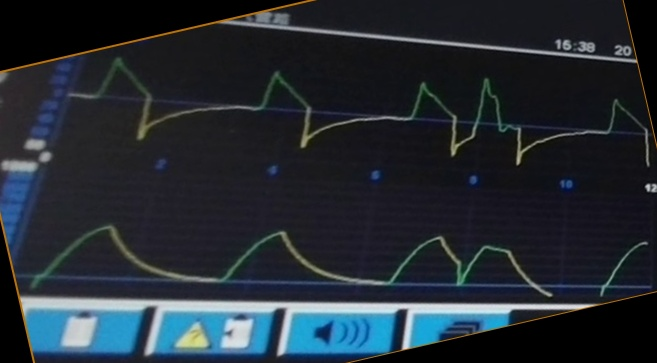Double_Triggering Flow: (93, 56, 568, 166)
Double_Triggering Volume: (38, 222, 642, 293)
